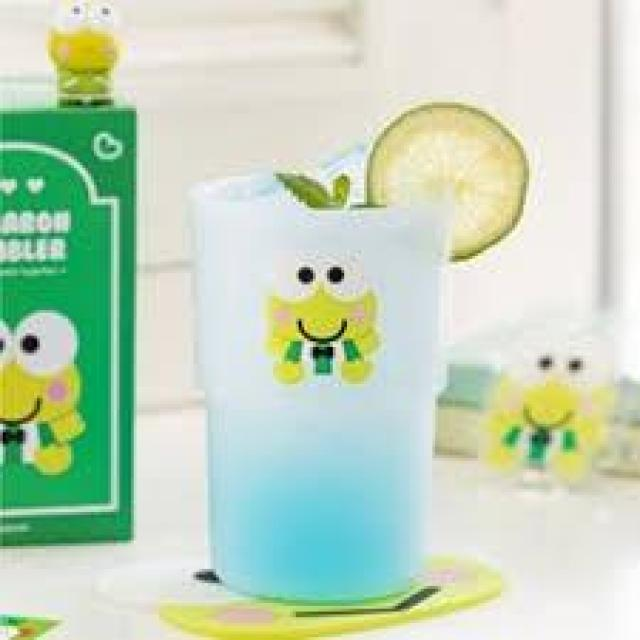bottle: (189, 165, 451, 609)
